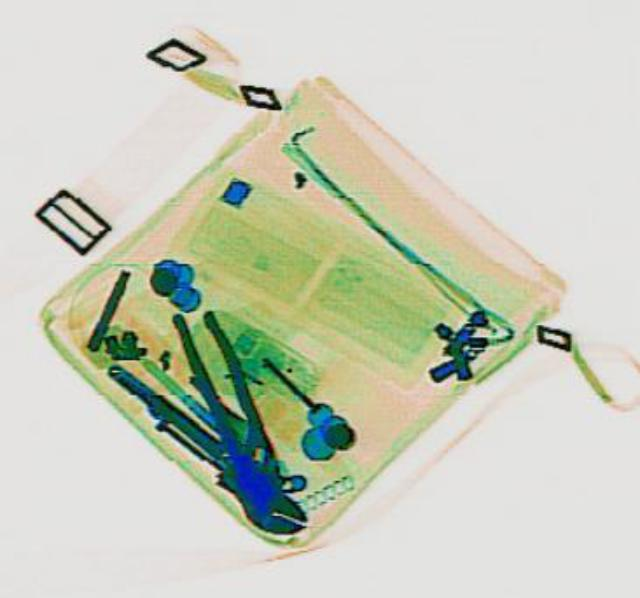Pliers: (160, 297, 294, 501)
